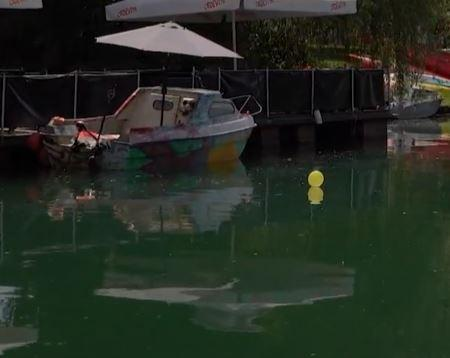Ship: (37, 87, 272, 173)
